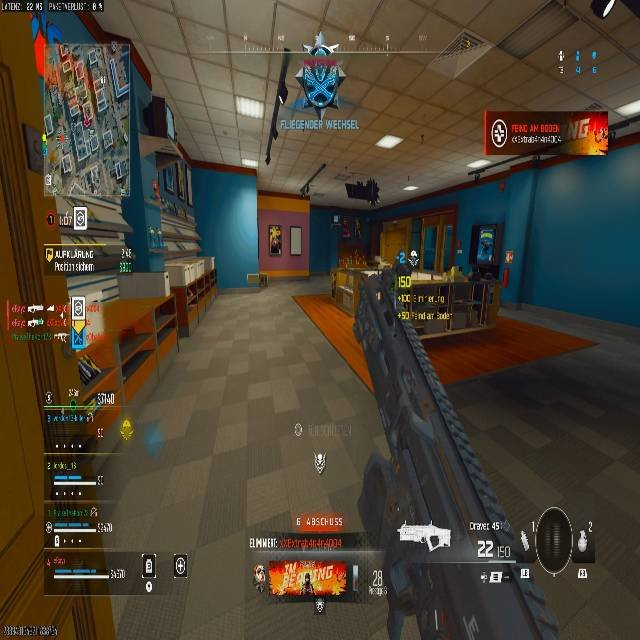player: (293, 34, 344, 117), (469, 255, 496, 319)
